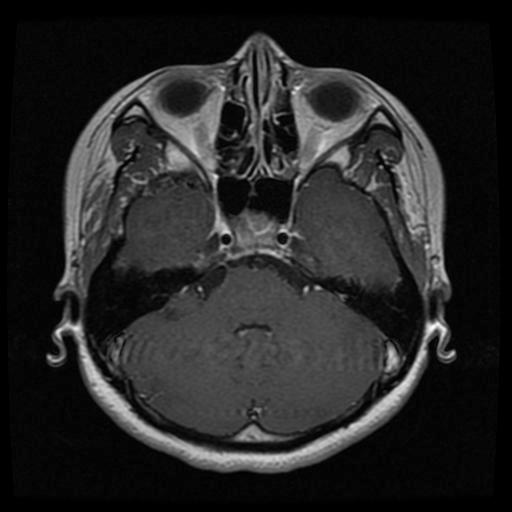Tumour-Pituitary: (210, 217, 294, 260)
